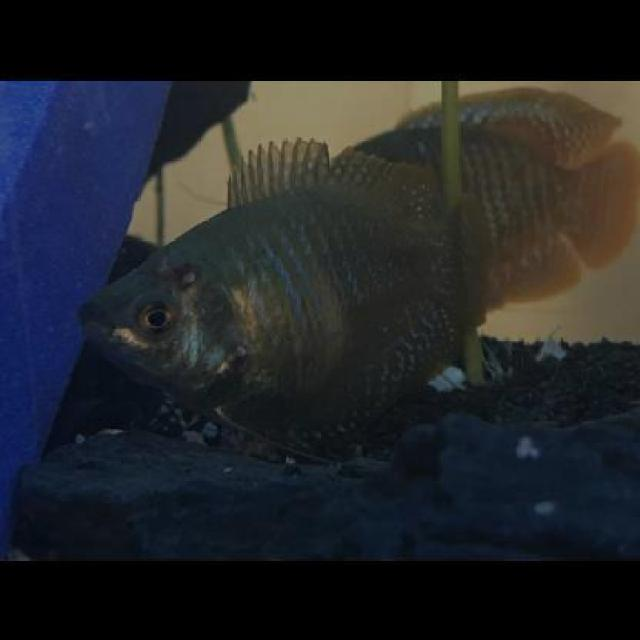Gourami: (78, 143, 497, 435)
